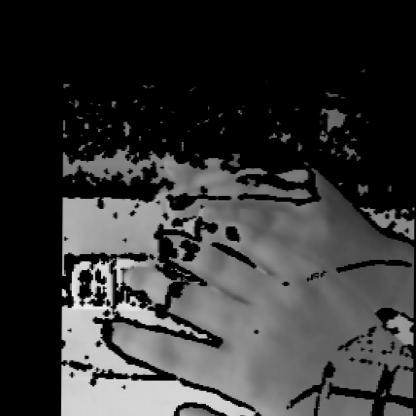dua: (86, 147, 414, 415)
